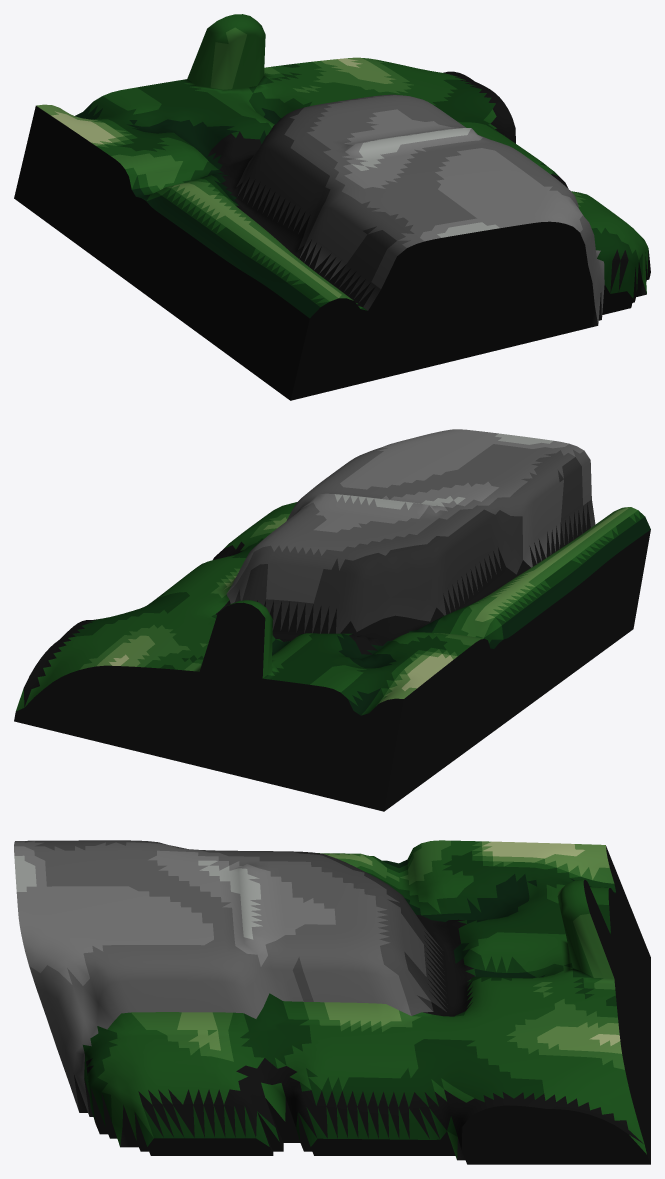
The model's file is green_shell_197.glb.
The picture shows the model from 3 angles, top to bottom: view 1: azimuth 30°, elevation 25°; view 2: azimuth 150°, elevation 25°; view 3: azimuth 270°, elevation 25°; orthographic projection. The views are drawn at different scales.
Visible parts, largest first — view 1: green_shell_197; view 2: green_shell_197; view 3: green_shell_197.
Boxes of the visible parts, box(x1,y1,x2,y2) form: green_shell_197: box(14, 14, 650, 400); green_shell_197: box(14, 429, 650, 811); green_shell_197: box(14, 840, 650, 1164).
Size of the model in its own units: 24 by 9.05 by 31.2.
